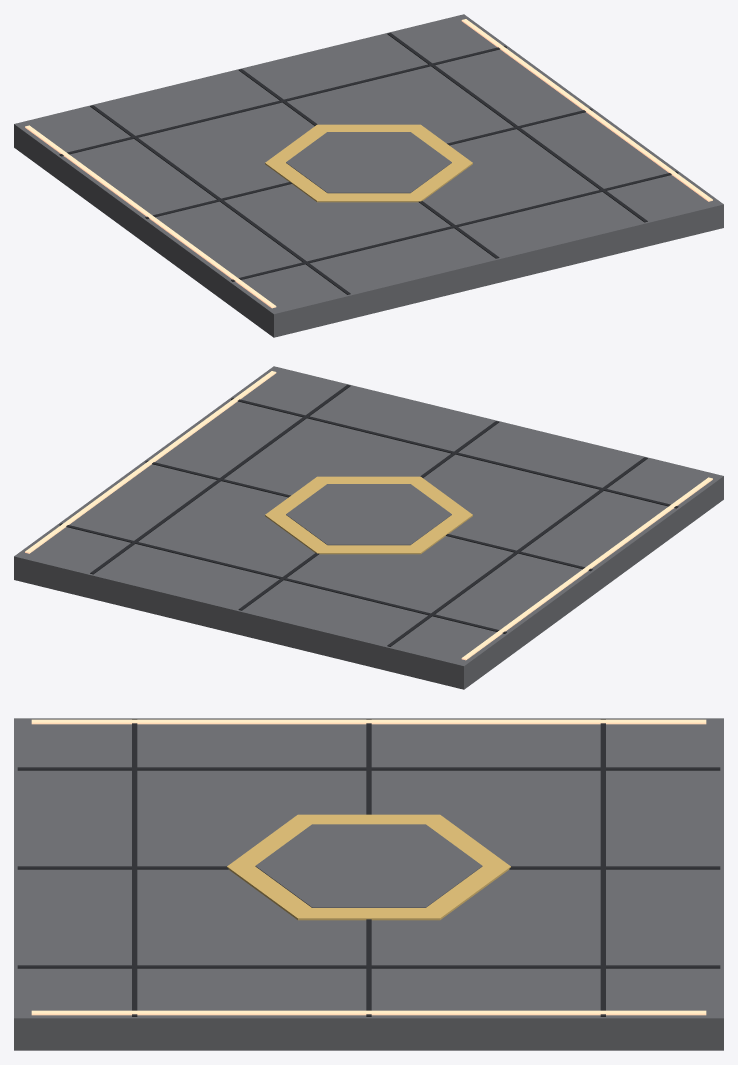
File: Prop_Aegis_StreetTile.fbx
3 views of the same model, one above another, from view 1: azimuth 30°, elevation 25°; view 2: azimuth 150°, elevation 25°; view 3: azimuth 270°, elevation 25° (orthographic). The views are drawn at different scales.
Parts seen in each view (by area): view 1: PST_Slab, PST_InlayIn, PST_Inlay, PST_Strip-1, PST_Strip1, PST_GroutY-1, PST_GroutY1, PST_GroutX1, PST_GroutX-1, PST_GroutY0, PST_GroutX0; view 2: PST_Slab, PST_InlayIn, PST_Inlay, PST_Strip-1, PST_Strip1, PST_GroutY-1, PST_GroutY1, PST_GroutX1, PST_GroutX-1, PST_GroutY0, PST_GroutX0; view 3: PST_Slab, PST_InlayIn, PST_Inlay, PST_Strip-1, PST_Strip1, PST_GroutX-1, PST_GroutX1, PST_GroutY-1, PST_GroutY1, PST_GroutX0, PST_GroutY0.
Boxes of the visible parts, bbox=[...] form: PST_Slab: bbox=[14, 14, 723, 337]; PST_InlayIn: bbox=[286, 132, 451, 193]; PST_Inlay: bbox=[265, 124, 472, 202]; PST_Strip-1: bbox=[25, 125, 276, 308]; PST_Strip1: bbox=[461, 19, 712, 201]; PST_GroutY-1: bbox=[231, 171, 678, 281]; PST_GroutY1: bbox=[59, 45, 506, 156]; PST_GroutX1: bbox=[387, 32, 647, 222]; PST_GroutX-1: bbox=[90, 105, 350, 294]; PST_GroutY0: bbox=[145, 108, 592, 219]; PST_GroutX0: bbox=[238, 69, 499, 258]; PST_Slab: bbox=[14, 366, 723, 689]; PST_InlayIn: bbox=[286, 484, 451, 545]; PST_Inlay: bbox=[265, 476, 472, 554]; PST_Strip-1: bbox=[461, 477, 712, 660]; PST_Strip1: bbox=[25, 371, 276, 553]; PST_GroutY-1: bbox=[231, 397, 678, 508]; PST_GroutY1: bbox=[59, 523, 506, 633]; PST_GroutX1: bbox=[90, 384, 350, 574]; PST_GroutX-1: bbox=[387, 457, 647, 646]; PST_GroutY0: bbox=[145, 460, 592, 571]; PST_GroutX0: bbox=[238, 421, 499, 610]; PST_Slab: bbox=[14, 718, 723, 1050]; PST_InlayIn: bbox=[255, 824, 482, 907]; PST_Inlay: bbox=[227, 814, 510, 920]; PST_Strip-1: bbox=[31, 719, 706, 724]; PST_Strip1: bbox=[31, 1010, 706, 1015]; PST_GroutX-1: bbox=[17, 767, 720, 770]; PST_GroutX1: bbox=[17, 965, 720, 968]; PST_GroutY-1: bbox=[132, 719, 137, 1016]; PST_GroutY1: bbox=[600, 719, 605, 1016]; PST_GroutX0: bbox=[17, 866, 720, 869]; PST_GroutY0: bbox=[366, 719, 371, 1016].
Size of the model in its own units: 2 by 0.108 by 2.
